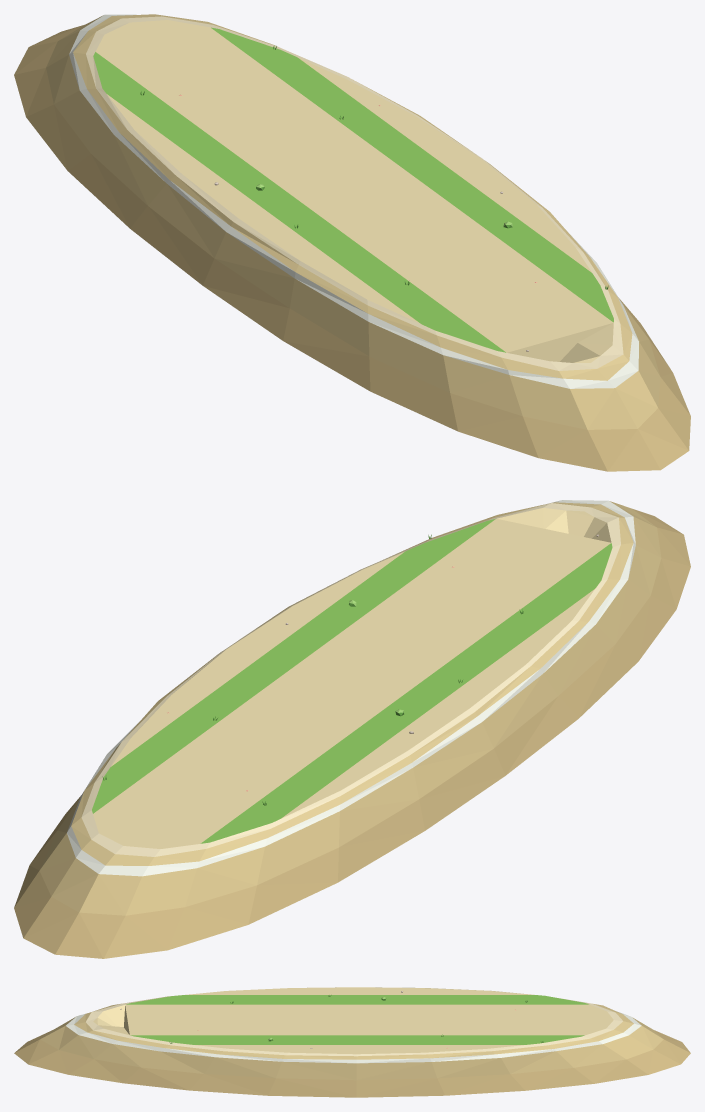
Rendered from sand-island.glb.
The picture shows the model from 3 angles, top to bottom: view 1: azimuth 30°, elevation 25°; view 2: azimuth 150°, elevation 25°; view 3: azimuth 270°, elevation 25°; orthographic projection. The views are drawn at different scales.
Visible parts, largest first — view 1: sand-island; view 2: sand-island; view 3: sand-island.
Part boxes in pixels (x1,y1,x2,y2): sand-island: (14, 14, 690, 471); sand-island: (14, 500, 690, 958); sand-island: (14, 987, 690, 1097).
Bounding box in the file's own units: 91 × 17.66 × 299.
